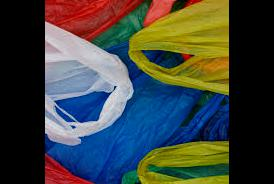Plastic: (125, 0, 229, 99), (45, 17, 123, 141), (45, 148, 173, 183), (138, 141, 229, 183)
